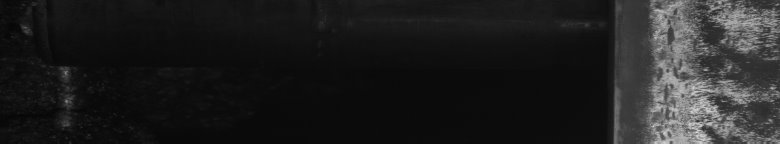kb: (648, 4, 776, 136)
